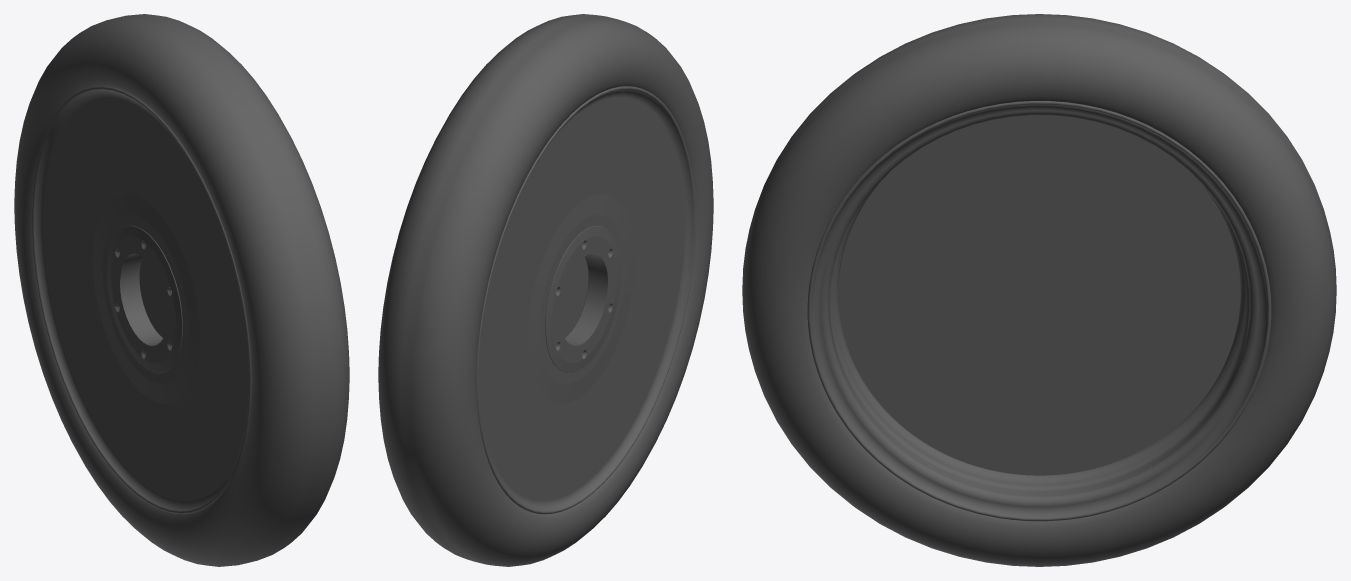
Rendered from Ruben_GF_test_Wheel_RR.glb.
3 renders of one model, left to right at view 1: azimuth 30°, elevation 25°; view 2: azimuth 150°, elevation 25°; view 3: azimuth 270°, elevation 25°, orthographic. The views are drawn at different scales.
Visible parts, largest first — view 1: TDSR base model as a part-1-solid3.001; view 2: TDSR base model as a part-1-solid3.001; view 3: TDSR base model as a part-1-solid3.001.
Boxes of the visible parts, box(x1,y1,x2,y2) form: TDSR base model as a part-1-solid3.001: box(14, 14, 349, 566); TDSR base model as a part-1-solid3.001: box(378, 14, 713, 566); TDSR base model as a part-1-solid3.001: box(742, 14, 1336, 566).
Bounding box in the file's own units: 0.001 × 0.00557 × 0.00557.
1 material, 1 textured.
